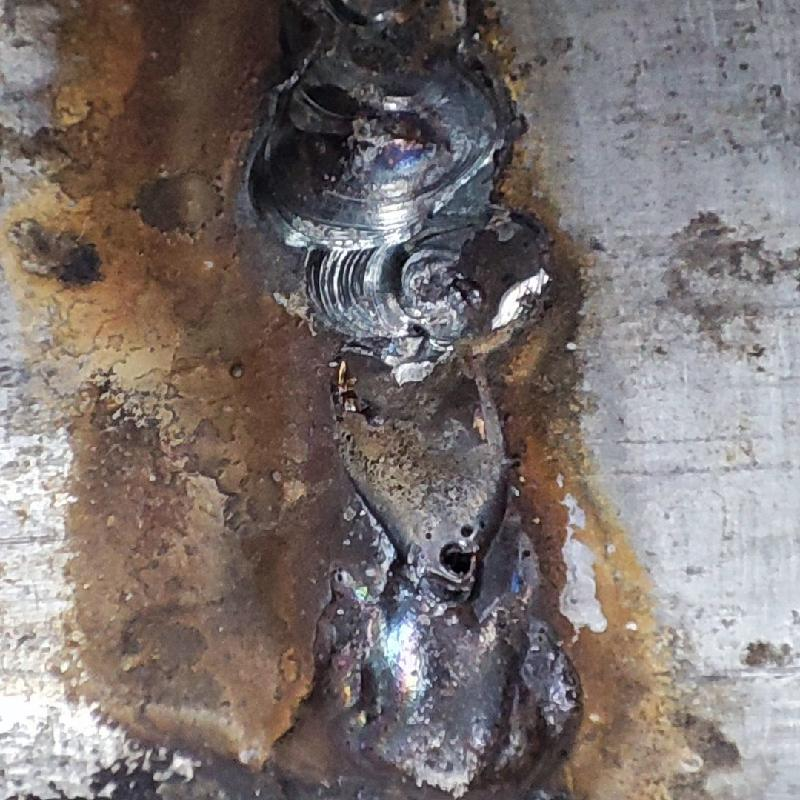Not_fully_soldered: (303, 246, 549, 590)
Surface_pores: (419, 516, 493, 592)
wrong_size: (227, 2, 494, 246)
